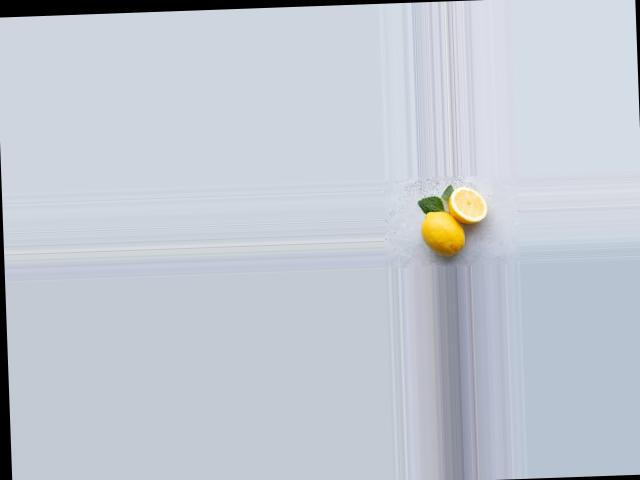lemon: (416, 207, 465, 257)
